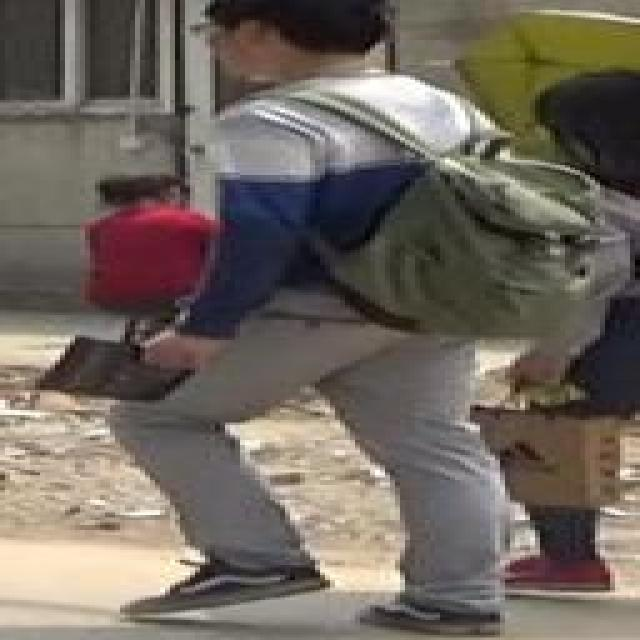adult: (115, 0, 563, 628), (524, 77, 640, 594), (66, 176, 242, 327)
